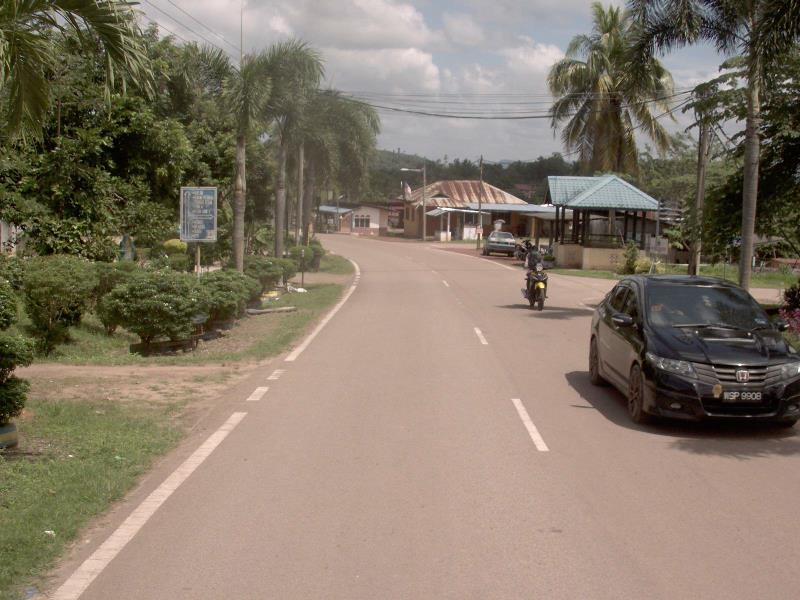ads_sign: (173, 179, 223, 249)
